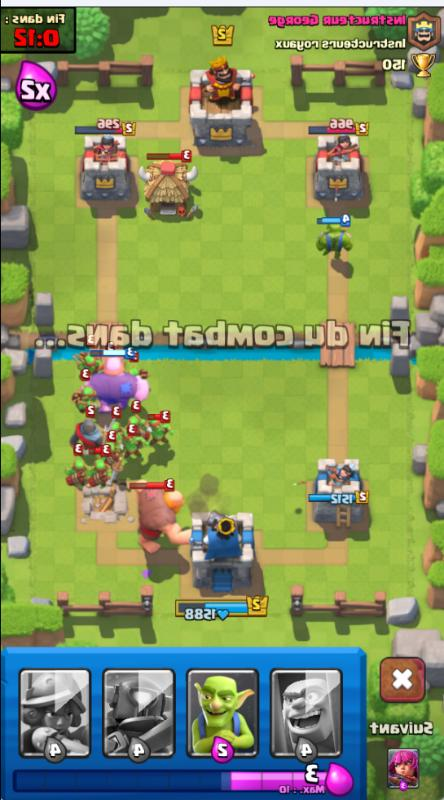chevalier: (69, 412, 109, 456)
geant: (127, 477, 193, 554), (84, 345, 146, 415)
gobelin_lances: (62, 456, 89, 492), (83, 458, 111, 492), (71, 384, 101, 413), (73, 350, 102, 380), (128, 410, 149, 443), (152, 416, 172, 450), (101, 438, 123, 468), (122, 433, 146, 459), (126, 358, 149, 383), (108, 415, 125, 443)
